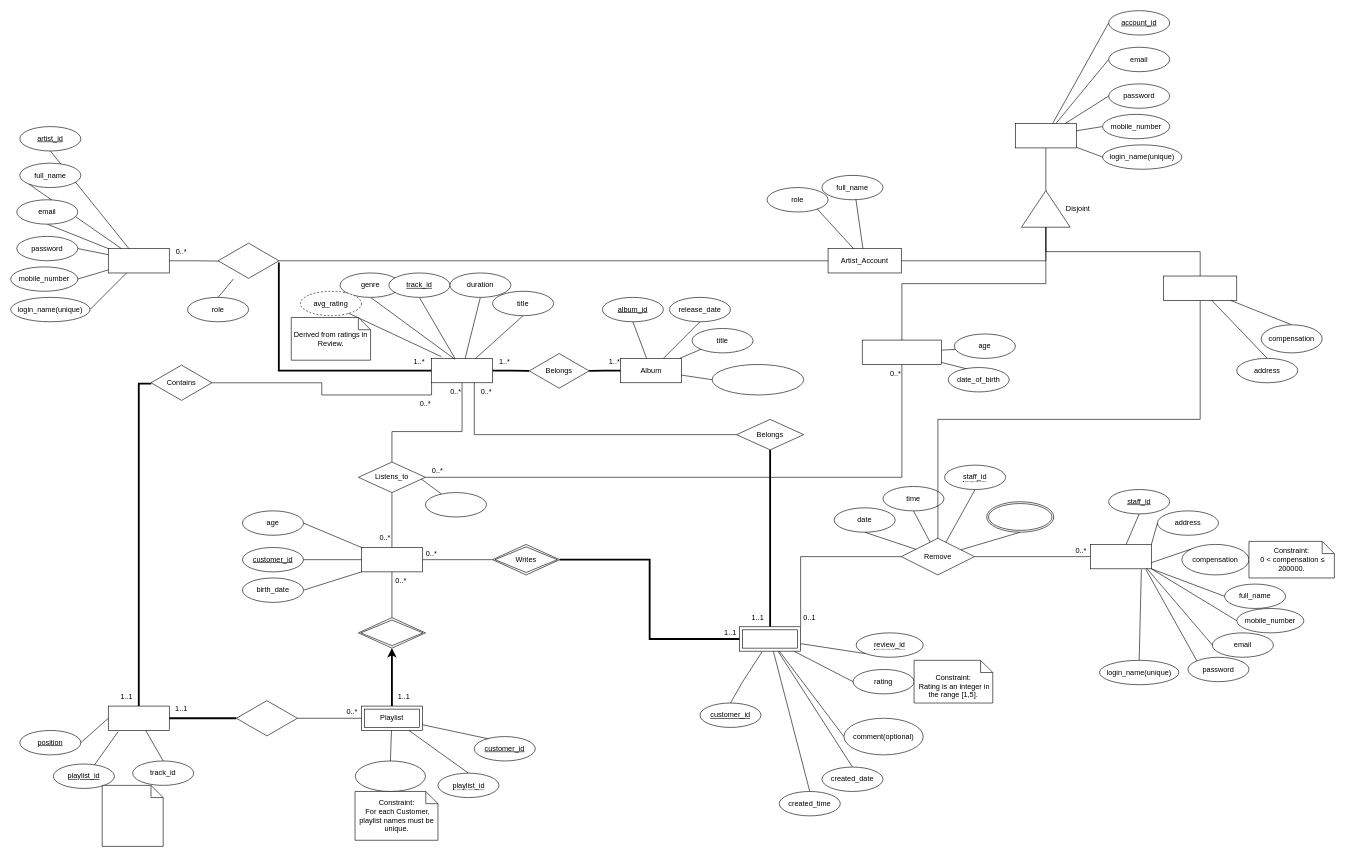
Some shapes in this 1345 by 857 pixel diagram are drawn without their labels. The shapes that lost their labels are listed below. From the top down, each one's centre as x and y in pixels, then its label:
point 1045,135: Account
point 1045,208: IsA
point 138,260: Artist
point 248,260: Contributed
point 1200,287: Staff_Account
point 462,370: Track
point 902,351: Customer_Account
point 758,379: most_popular_song
point 455,504: times
point 1020,516: removal_reason
point 391,559: Customer
point 1120,556: Staff
point 391,632: Created
point 770,638: Review
point 138,717: PlaylistItem
point 266,718: Orderd
point 390,775: name
point 132,815: UNIQUE (playlist_id, track_id)
